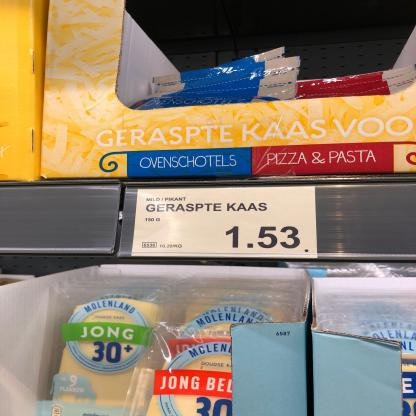prtg: (132, 187, 319, 259)
